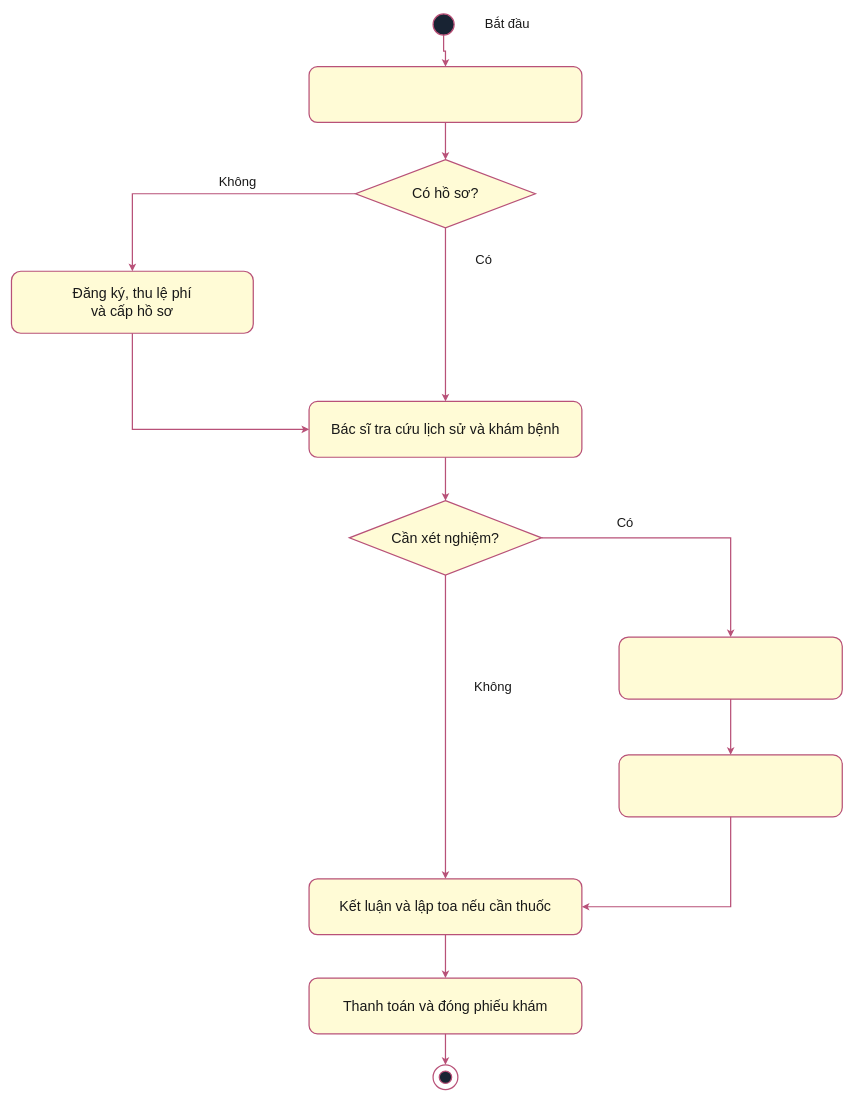
The diagram is 853 pixels wide and 1101 high, and some of its shapes have lost their labels. Each missing label, with the box of its shape:
Chỉ định và thực hiện xét nghiệm: (618, 636, 843, 699)
Ghi kết quả và bác sĩ xem kết quả: (618, 754, 843, 817)
Tiếp nhận thông tin hoặc mã hồ sơ: (308, 66, 582, 123)
